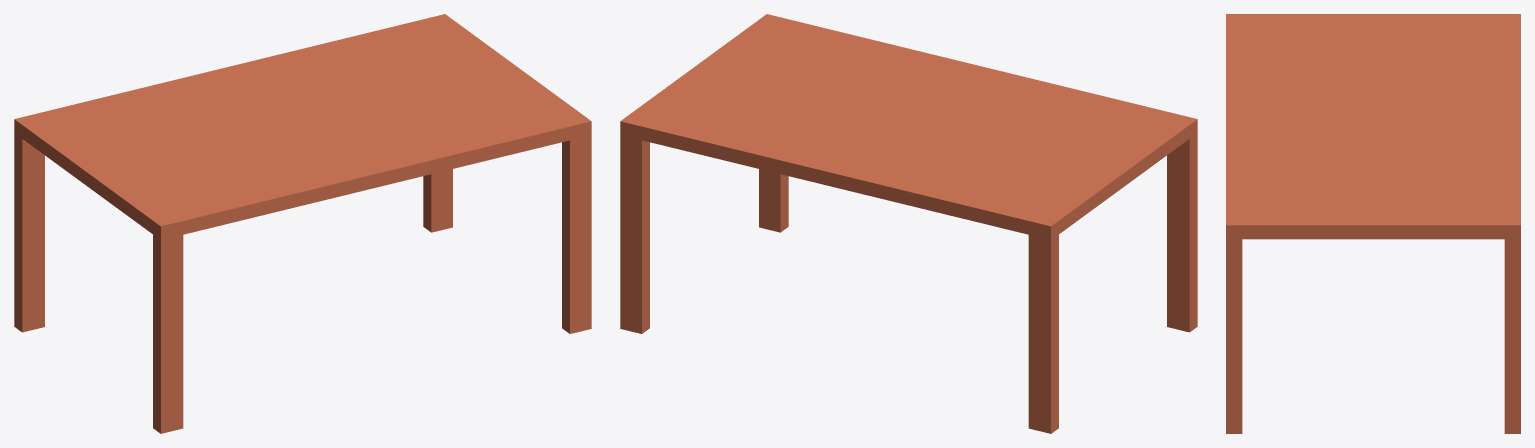
File: t1texturepaintfinal2.fbx
3 views of the same model, side by side, from view 1: azimuth 30°, elevation 25°; view 2: azimuth 150°, elevation 25°; view 3: azimuth 270°, elevation 25° (orthographic).
Parts seen in each view (by area): view 1: Cube; view 2: Cube; view 3: Cube.
Part boxes in pixels (<box>): Cube: <box>14,14,591,433</box>; Cube: <box>620,14,1197,433</box>; Cube: <box>1226,14,1520,433</box>.
Size of the model in its own units: 215 by 99.1 by 127.
